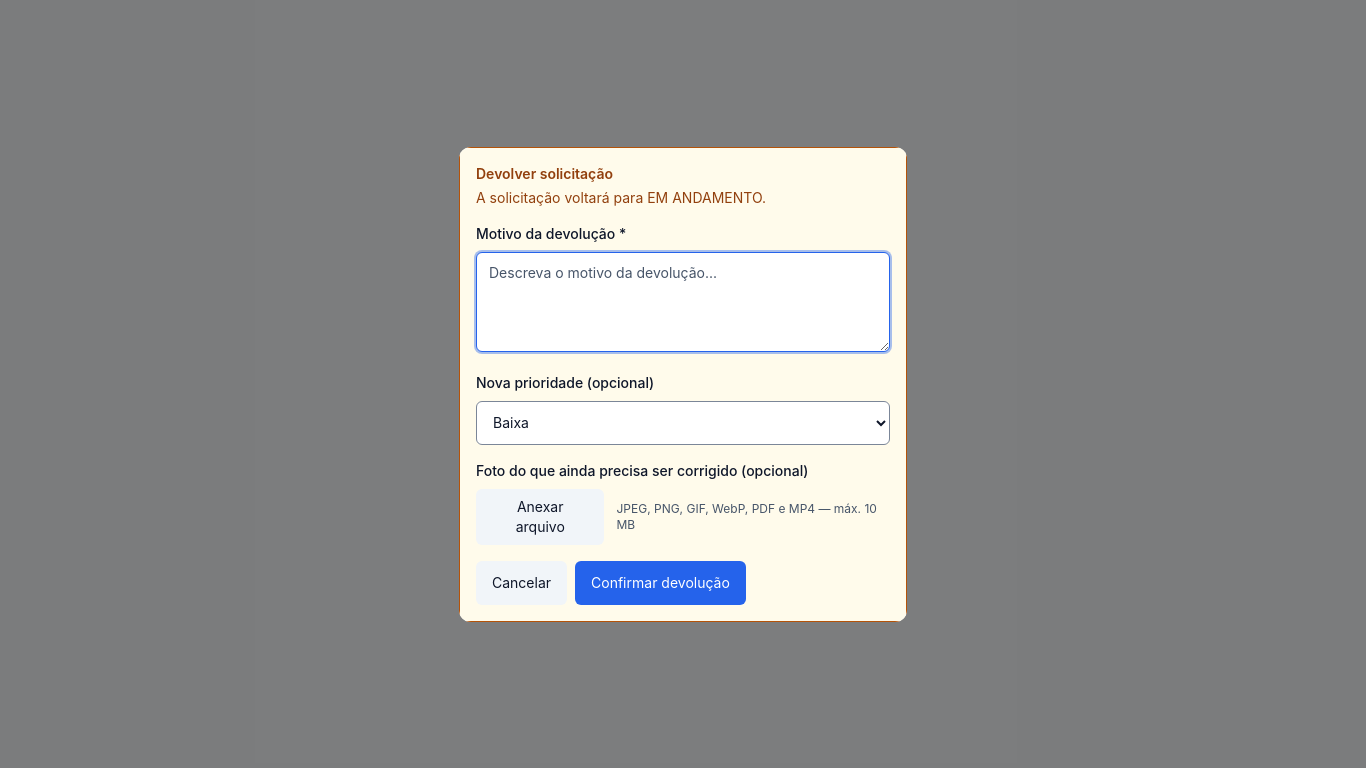
Test: DialogoDaAcao › deve perguntar antes de descartar quando Cancelar do formulário é acionado com algo preenchido
In the text box labelled "Motivo da devolução *": (683, 302) top-left (476, 252), bottom-right (890, 352), type "Solda incompleta"
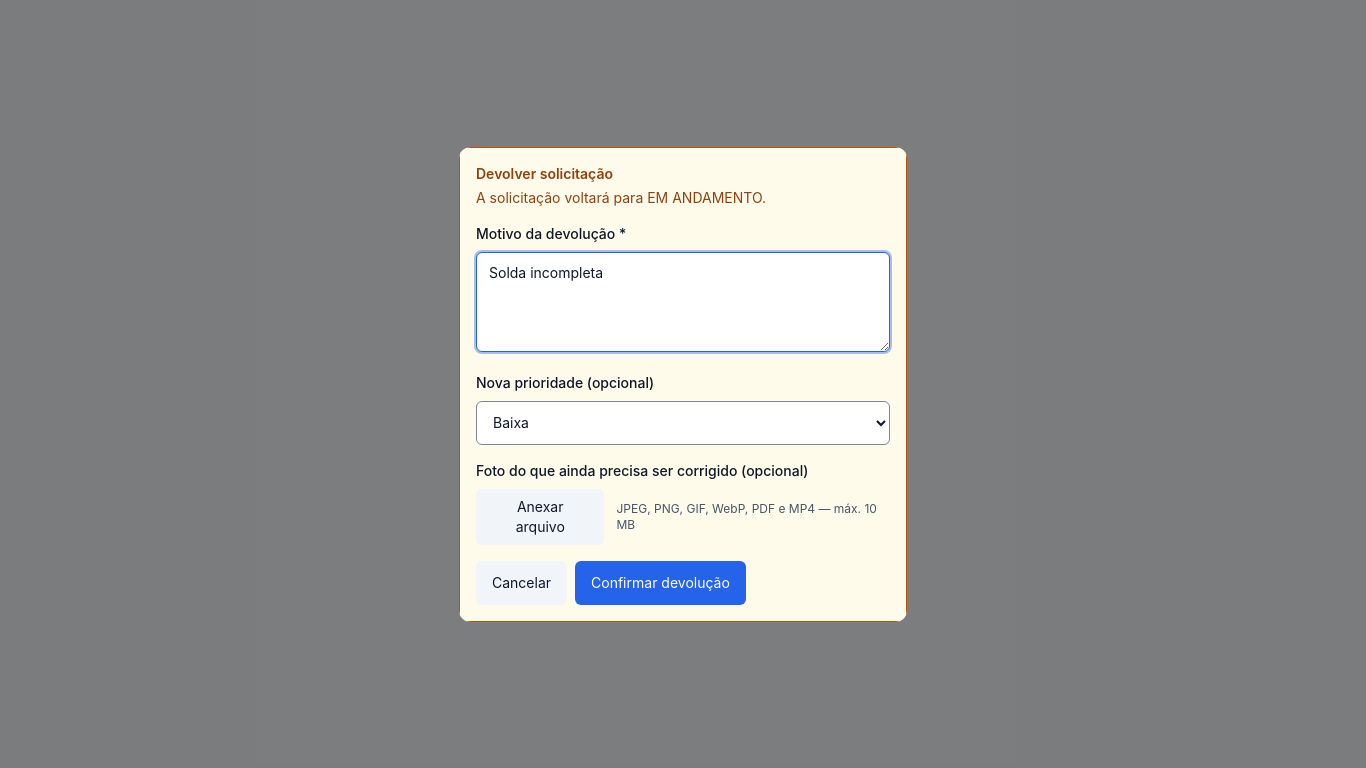
Click the button "Cancelar": (522, 582) top-left (476, 560), bottom-right (567, 604)
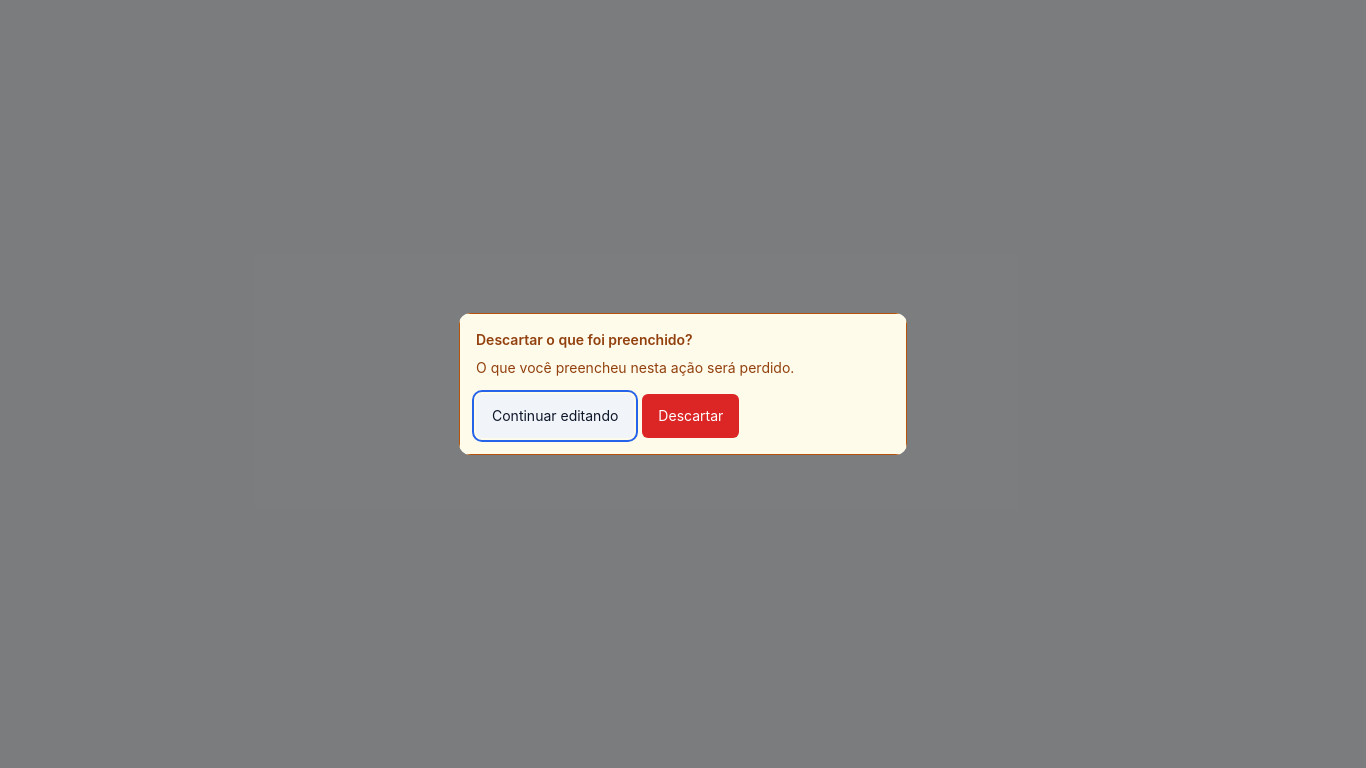
expect the heading "Descartar o que foi preenchido?" is shown: met, box top-left (476, 331), bottom-right (693, 348)
